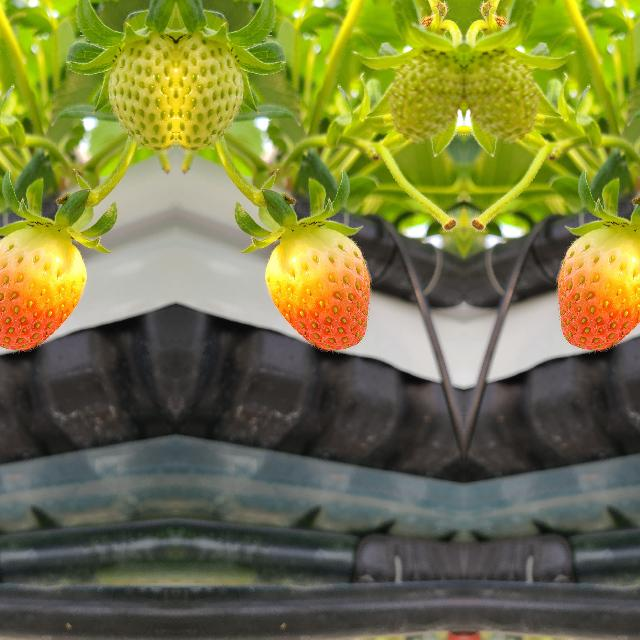Health_25: (178, 25, 242, 157), (108, 25, 172, 157), (394, 46, 462, 154), (464, 46, 532, 154)
Health_75: (264, 229, 368, 349), (0, 229, 86, 349), (558, 229, 640, 349)
